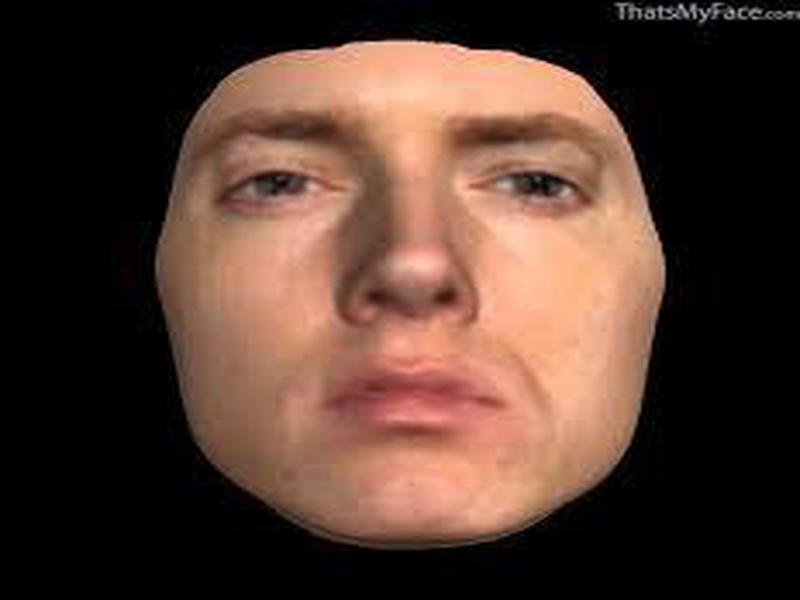without_mask: (170, 68, 651, 534)
